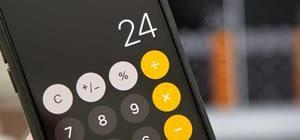Calculator: (32, 5, 199, 140)
